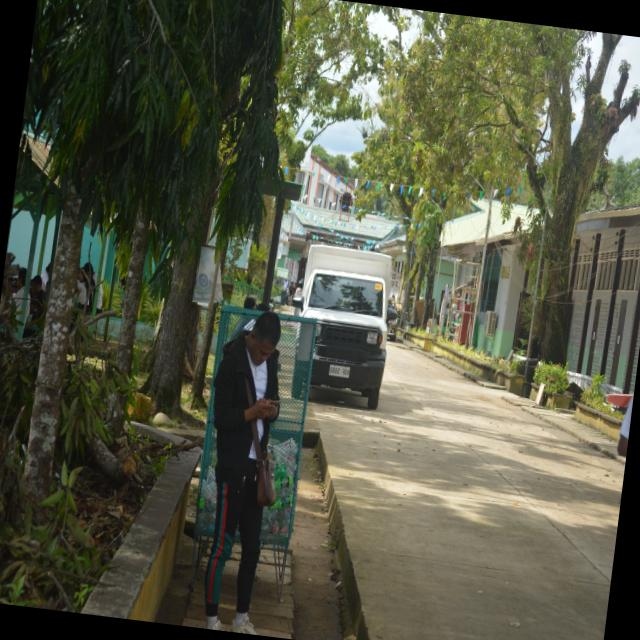person: (204, 312, 280, 634)
